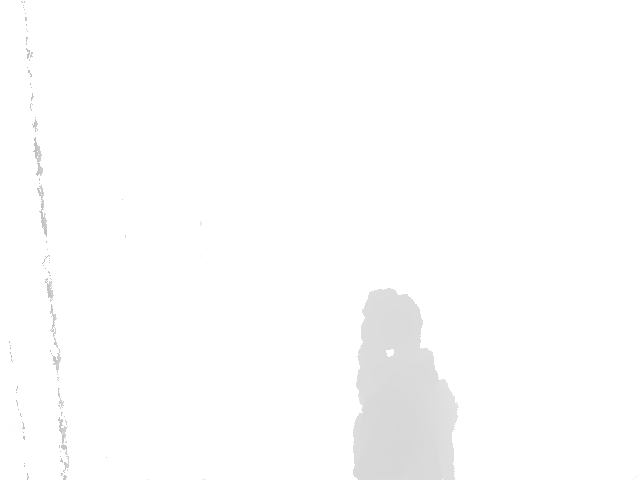head: (360, 286, 424, 367)
person: (352, 287, 460, 480)
